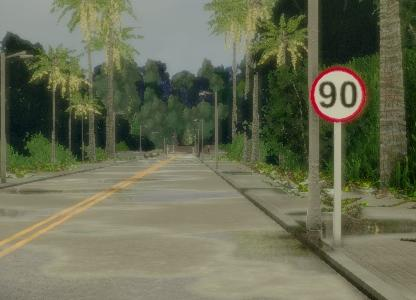Speed_90: (308, 66, 366, 124)
